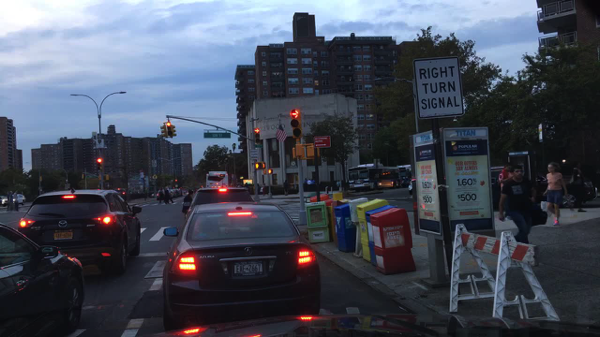bus: (347, 163, 398, 190), (206, 172, 230, 189), (396, 165, 412, 188)
car: (162, 204, 320, 331), (18, 188, 141, 276), (0, 223, 82, 336), (491, 163, 596, 208), (2, 194, 27, 208), (115, 188, 127, 202), (1, 195, 9, 205)
person: (498, 166, 546, 249), (540, 163, 564, 226), (569, 162, 586, 213), (498, 163, 511, 220), (182, 191, 193, 219), (14, 190, 20, 213), (283, 179, 290, 195), (163, 185, 169, 202), (10, 191, 14, 213), (168, 189, 174, 202), (159, 186, 163, 204), (7, 191, 10, 212), (236, 182, 243, 190), (340, 180, 345, 190), (400, 176, 405, 186), (262, 186, 267, 196), (404, 176, 410, 184), (243, 182, 250, 188), (311, 179, 316, 186), (334, 179, 338, 187), (306, 179, 311, 185), (337, 180, 340, 190), (303, 178, 307, 184)
traffic light: (290, 110, 302, 136), (307, 146, 319, 159), (253, 128, 260, 144), (294, 146, 303, 158), (160, 124, 167, 138), (96, 157, 102, 172), (170, 123, 176, 136), (168, 124, 173, 137), (103, 175, 111, 182), (290, 147, 294, 161), (260, 162, 266, 171), (255, 162, 262, 169), (261, 169, 268, 175), (98, 175, 103, 182), (38, 176, 43, 183), (173, 179, 180, 184), (82, 173, 86, 181), (269, 169, 272, 175)
traffic sign: (411, 57, 466, 118), (203, 132, 231, 139), (314, 136, 330, 147), (507, 151, 527, 156), (372, 159, 381, 169), (538, 126, 543, 144), (139, 169, 145, 179), (253, 143, 263, 149), (152, 160, 158, 169), (64, 184, 69, 192), (152, 175, 159, 180)
